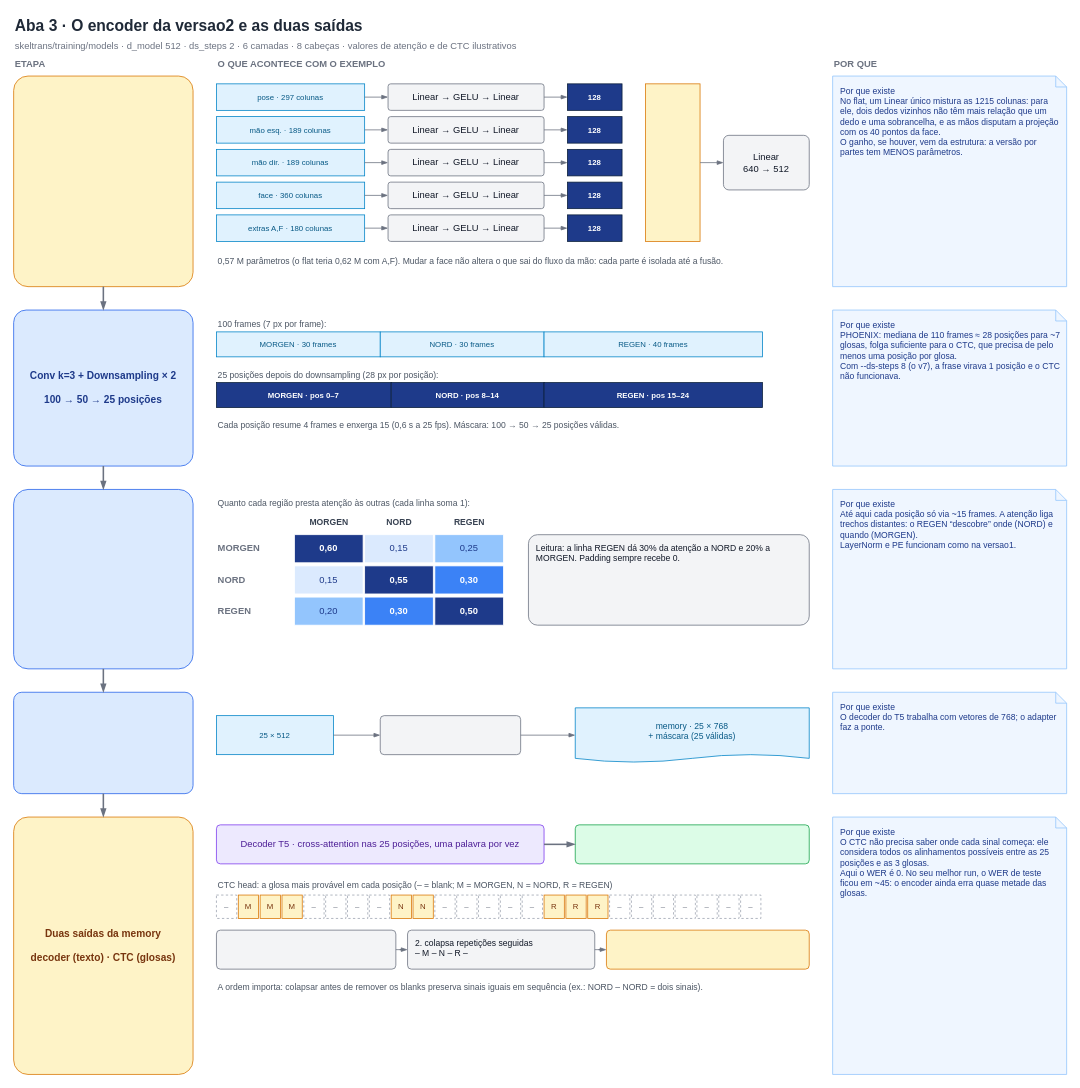
This 1080x1088 diagram has some shape labels left out. The centre of each missing label's shape, as x and y in pixels:
"1. argmax por posição (acima)" goes at (x=306, y=949).
"3. remove os blanks MORGEN NORD REGEN" goes at (x=707, y=949).
"Adapter → memory 25 × 512 → 25 × 768" goes at (x=103, y=742).
"concatena 5 × 128 = 640" goes at (x=672, y=162).
"LayerNorm · PE · Transformer × 6 25 × 512 → 25 × 512" goes at (x=103, y=579).
"Linear 512 → 768" goes at (x=450, y=735).
"Projeção por partes (--encoder-type parts) 100 × 1215 → 100 × 512" goes at (x=103, y=181).
"“morgen regnet es im norden”" goes at (x=691, y=844).
